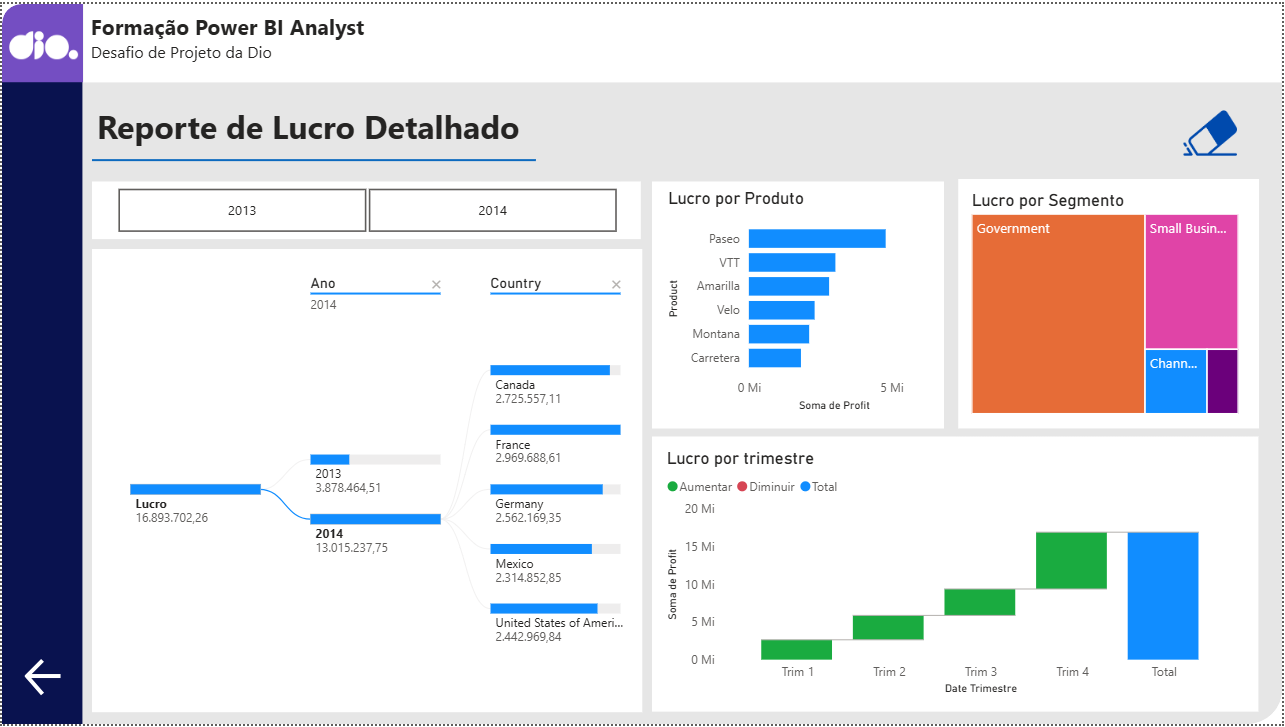

What the dashboard file says about the page in this screenshot:
{"tool":"powerbi","page":{"name":"Reporte de Lucro","canvas":[1280,720],"ordinal":1},"visuals":[{"type":"shape","box":[0,0,1280.3,720.2],"z":0},{"type":"shape","box":[0,0,80.7,720.2],"z":1000},{"type":"shape","box":[0,0,81.2,78.8],"z":2000},{"type":"image","box":[2.5,2.5,78.8,77.5],"z":3000},{"type":"shape","box":[80.7,0,1198.8,78.8],"z":4000},{"type":"textbox","box":[83.8,2.5,332.5,65],"z":5000},{"type":"shape","box":[90.5,244.6,550.3,463.5],"z":6000},{"type":"shape","box":[650.5,177.3,292.3,247],"z":7000},{"type":"textbox","box":[90.5,96.6,443.9,64.8],"z":8000},{"type":"shape","box":[650.5,432.9,606.5,275.1],"z":9000},{"type":"shape","box":[90.5,122.3,443.9,67.3],"z":10000},{"type":"shape","box":[956.3,174.9,300.8,249.5],"z":11000},{"type":"decompositionTreeVisual","fields":{"Analyze":["Sum(financials.Profit)"],"ExplainBy":["financials.Date.Variation.Hierarquia de datas.Ano","financials.Country"]},"box":[99,254.3,530.7,441.4],"z":12000},{"type":"slicer","fields":{"Values":["financials.Date.Variation.Hierarquia de datas.Ano"]},"box":[90.5,177.3,549.1,57.5],"z":13000},{"type":"barChart","title":"Lucro por Produto","fields":{"Y":["Sum(financials.Profit)"],"Category":["financials.Product"]},"box":[660.8,183.7,273.9,228.7],"z":14000},{"type":"treemap","title":"Lucro por Segmento","fields":{"Values":["Sum(financials.Profit)"],"Group":["financials.Segment"]},"box":[964.8,185.9,276.4,228.7],"z":15000},{"type":"image","box":[1175,97.5,66.2,63.8],"z":16000},{"type":"waterfallChart","title":"Lucro por trimestre","fields":{"Category":["financials.Date.Variation.Hierarquia de datas.Trimestre"],"Y":["Sum(financials.Profit)"]},"box":[660.3,443.9,580.8,251.9],"z":17000},{"type":"actionButton","box":[2.4,650.5,78.3,46.5],"z":18000}]}

Visuals, with their boxes in screenshot pixels (x1, y1, x2, y2), scaled from the page's 1280x720 canvas onto the 1285x727 screenshot:
shape: [0, 0, 1284, 726]
shape: [0, 0, 81, 726]
shape: [0, 0, 82, 80]
image: [3, 3, 82, 81]
shape: [81, 0, 1284, 80]
textbox: [84, 3, 418, 68]
shape: [91, 247, 643, 715]
shape: [653, 179, 946, 428]
textbox: [91, 98, 536, 163]
shape: [653, 437, 1262, 715]
shape: [91, 123, 536, 191]
shape: [960, 177, 1262, 429]
decompositionTreeVisual - Sum(financials.Profit) x financials.Date.Variation.Hierarquia de datas.Ano: [99, 257, 632, 702]
slicer - financials.Date.Variation.Hierarquia de datas.Ano: [91, 179, 642, 237]
"Lucro por Produto" barChart: [663, 185, 938, 416]
"Lucro por Segmento" treemap: [969, 188, 1246, 419]
image: [1180, 98, 1246, 163]
"Lucro por trimestre" waterfallChart: [663, 448, 1246, 703]
actionButton: [2, 657, 81, 704]
